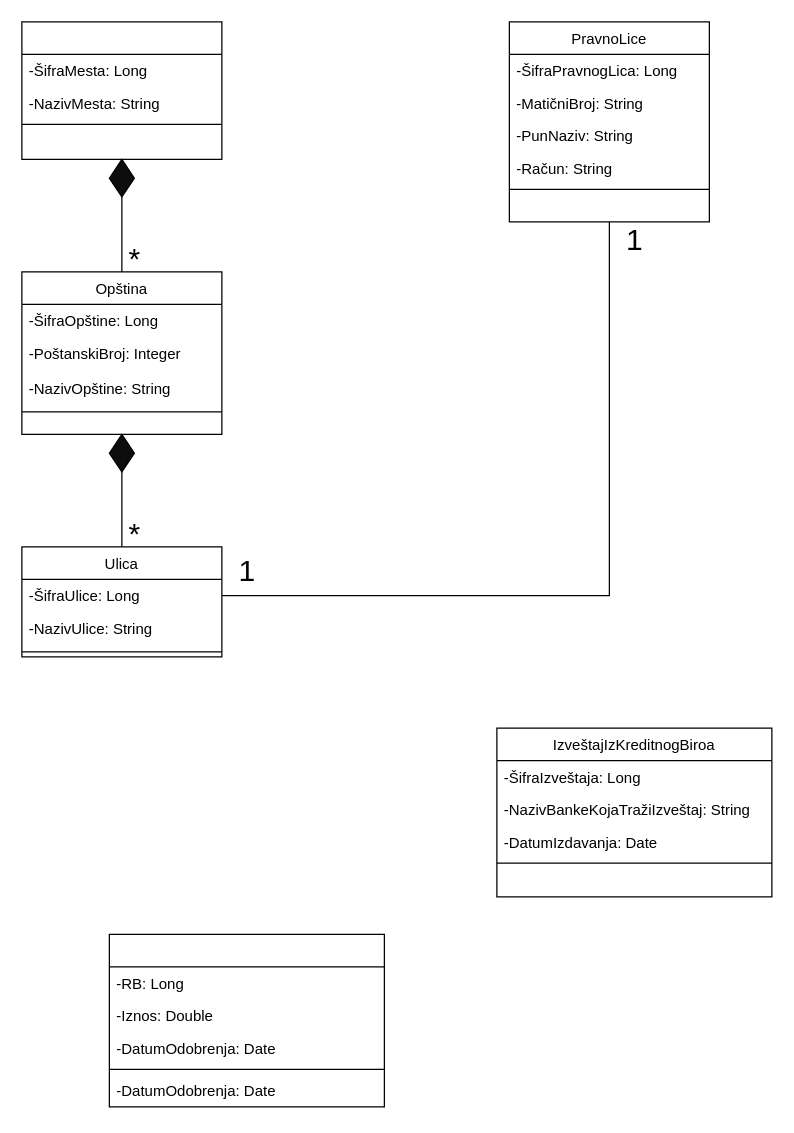
Some shapes in this 794 by 1133 pixel diagram are drawn without their labels. Each missing label, with the box of its shape:
KorišćeniKrediti: (108, 933, 384, 1107)
Mesto: (21, 21, 222, 159)
